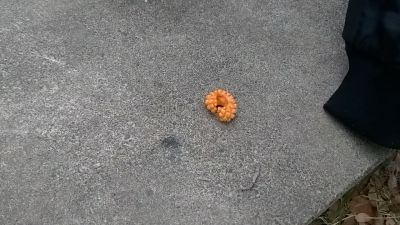eggs: (202, 88, 239, 123)
